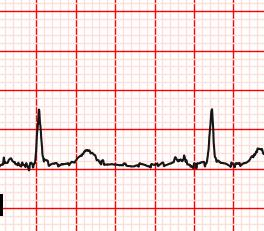LVH: (67, 145, 108, 170)
